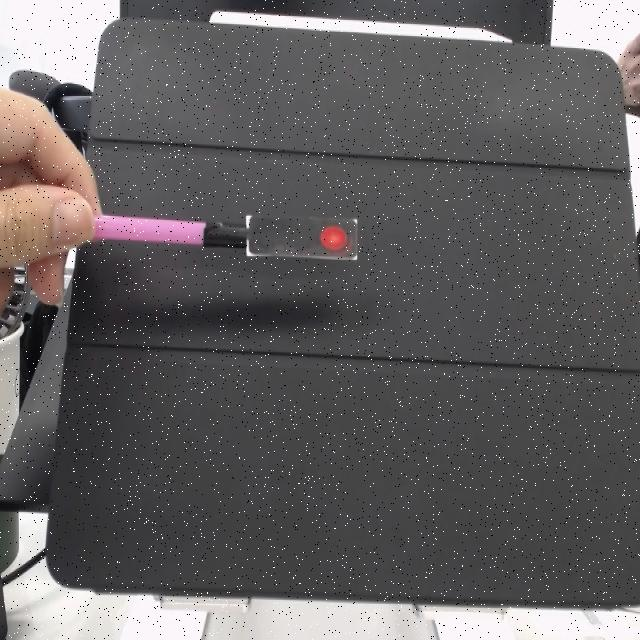traffic light: (244, 213, 359, 265)
